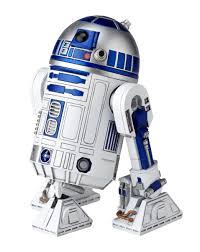r2d2: (27, 14, 184, 237)
